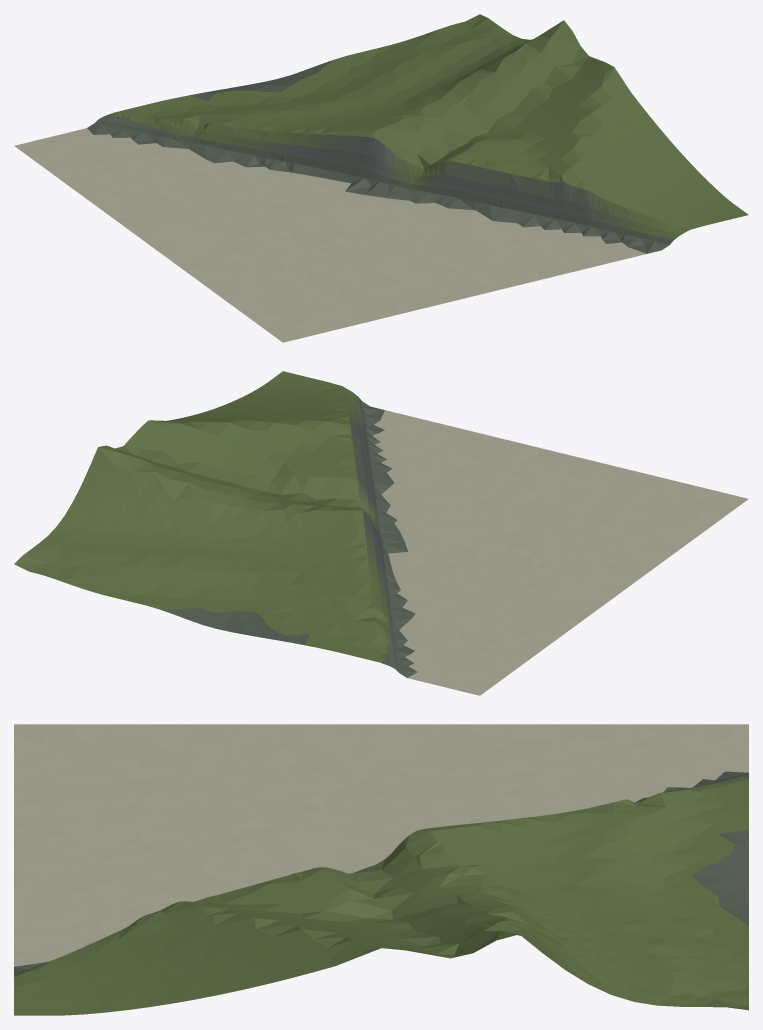
File: Ground_-4_-4.glb
The picture shows the model from 3 angles, top to bottom: view 1: azimuth 30°, elevation 25°; view 2: azimuth 150°, elevation 25°; view 3: azimuth 270°, elevation 25°; orthographic projection. The views are drawn at different scales.
Parts seen in each view (by area): view 1: Ground_-4_-4; view 2: Ground_-4_-4; view 3: Ground_-4_-4.
Boxes of the visible parts, box(x1,y1,x2,y2) form: Ground_-4_-4: box(14, 14, 748, 342); Ground_-4_-4: box(14, 371, 748, 695); Ground_-4_-4: box(14, 724, 748, 1015).
Size of the model in its own units: 768 by 116 by 768.
